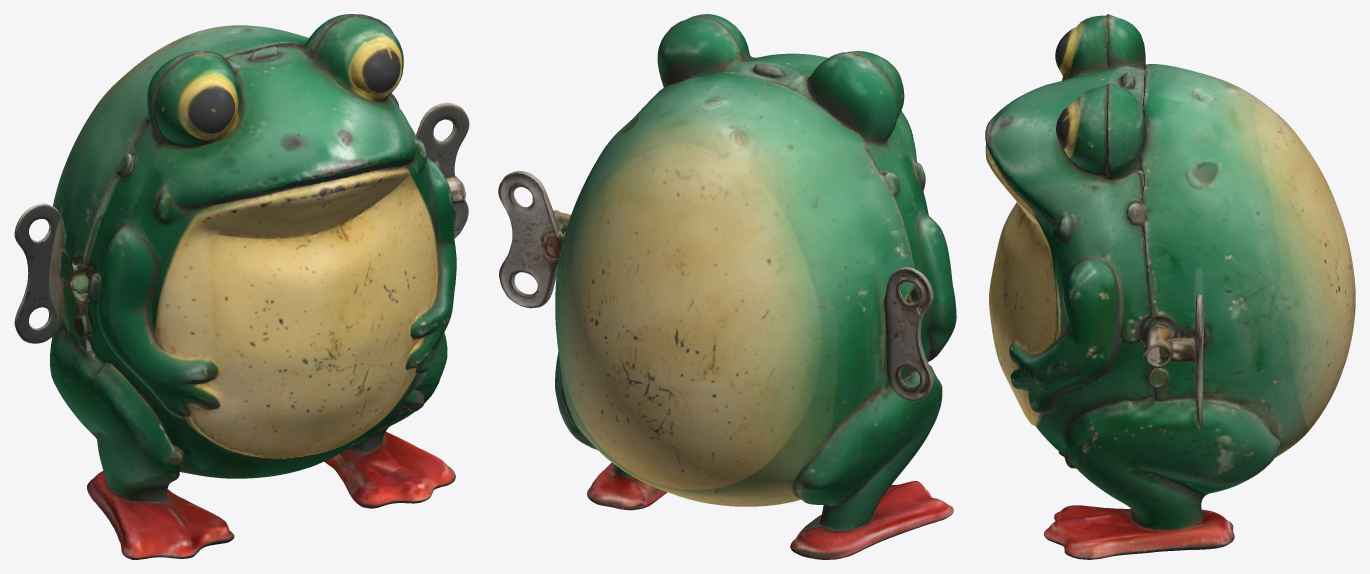
File: windup-frog.glb
3 views of the same model, side by side, from view 1: azimuth 30°, elevation 25°; view 2: azimuth 150°, elevation 25°; view 3: azimuth 270°, elevation 25° (orthographic). The views are drawn at different scales.
Visible parts, largest first — view 1: geometry_0; view 2: geometry_0; view 3: geometry_0.
Boxes of the visible parts, box(x1,y1,x2,y2) form: geometry_0: box(14, 14, 469, 559); geometry_0: box(498, 14, 956, 559); geometry_0: box(985, 14, 1355, 559).
Size of the model in its own units: 0.1049 by 0.105 by 0.0806.
1 material, 1 textured.
